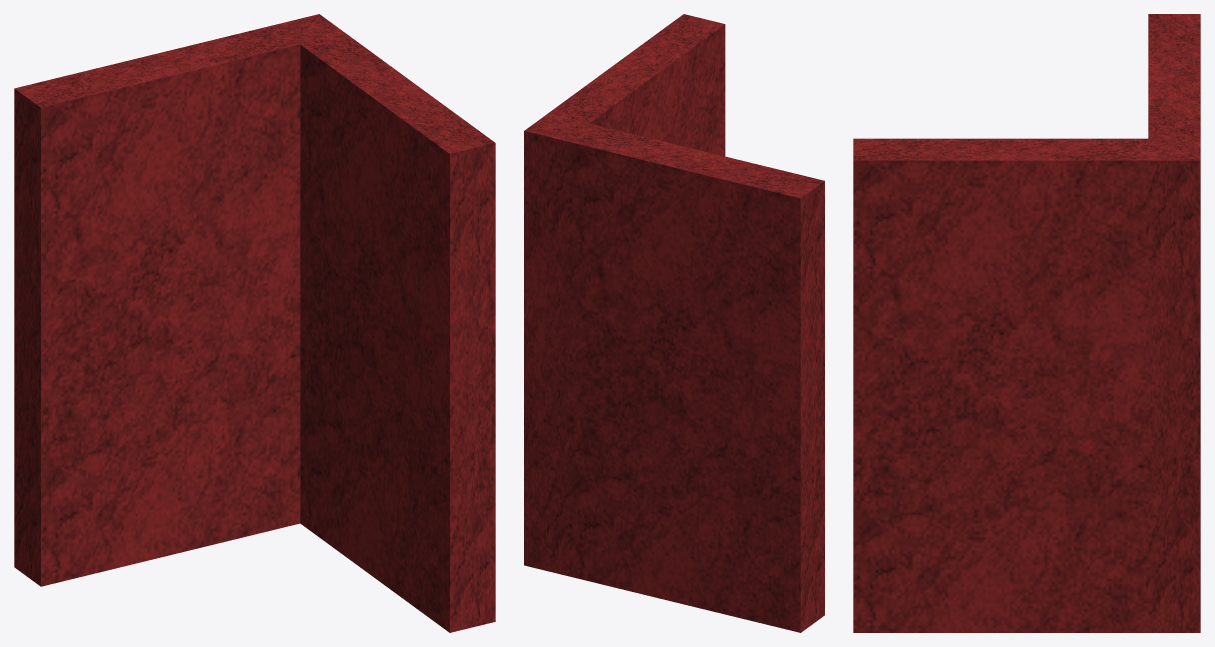
Rendered from Corner_Wall_UP.fbx.
The picture shows the model from 3 angles, left to right: view 1: azimuth 30°, elevation 25°; view 2: azimuth 150°, elevation 25°; view 3: azimuth 270°, elevation 25°; orthographic projection. The views are drawn at different scales.
Visible parts, largest first — view 1: Cube.004; view 2: Cube.004; view 3: Cube.004.
Part boxes in pixels (x1=…): Cube.004: x1=14, y1=14, x2=495, y2=632; Cube.004: x1=524, y1=14, x2=824, y2=632; Cube.004: x1=853, y1=14, x2=1200, y2=632.
Bounding box in the file's own units: 200 × 300 × 200.
